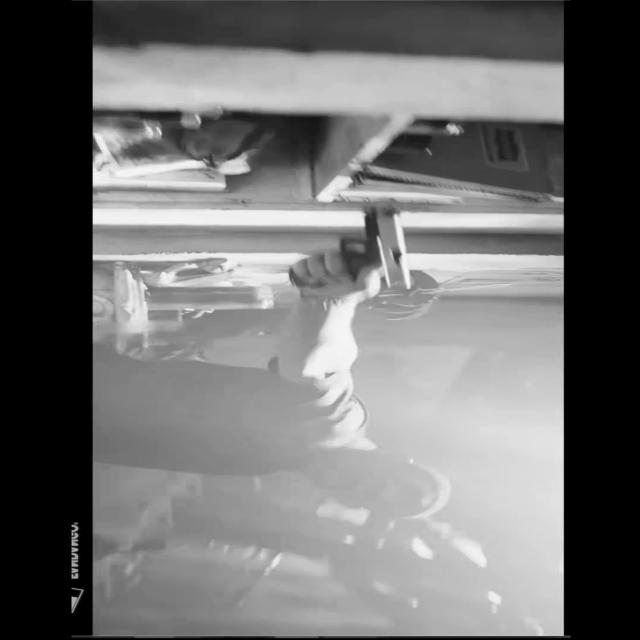weapons: (273, 202, 431, 301)
